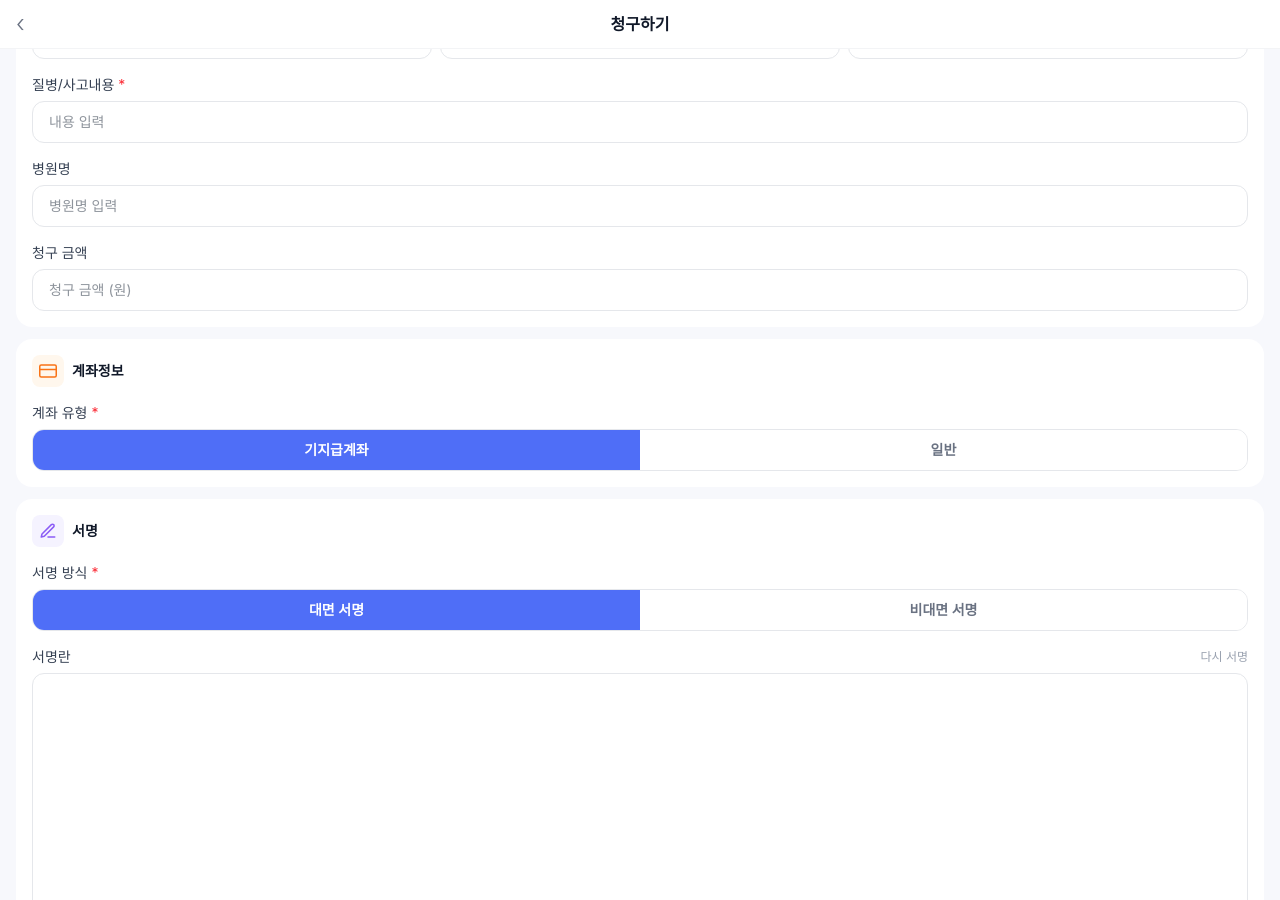
Test case: ClaimNew (청구하기 폼) › 실패 케이스 › 계좌번호 입력 시 숫자가 아닌 문자는 제거된다
The image size is (1280, 900).
(page scrolled)
# 계좌 유형 일반 선택
Step 1. Click the button "일반" → (944, 450), box [640,430,1247,470]
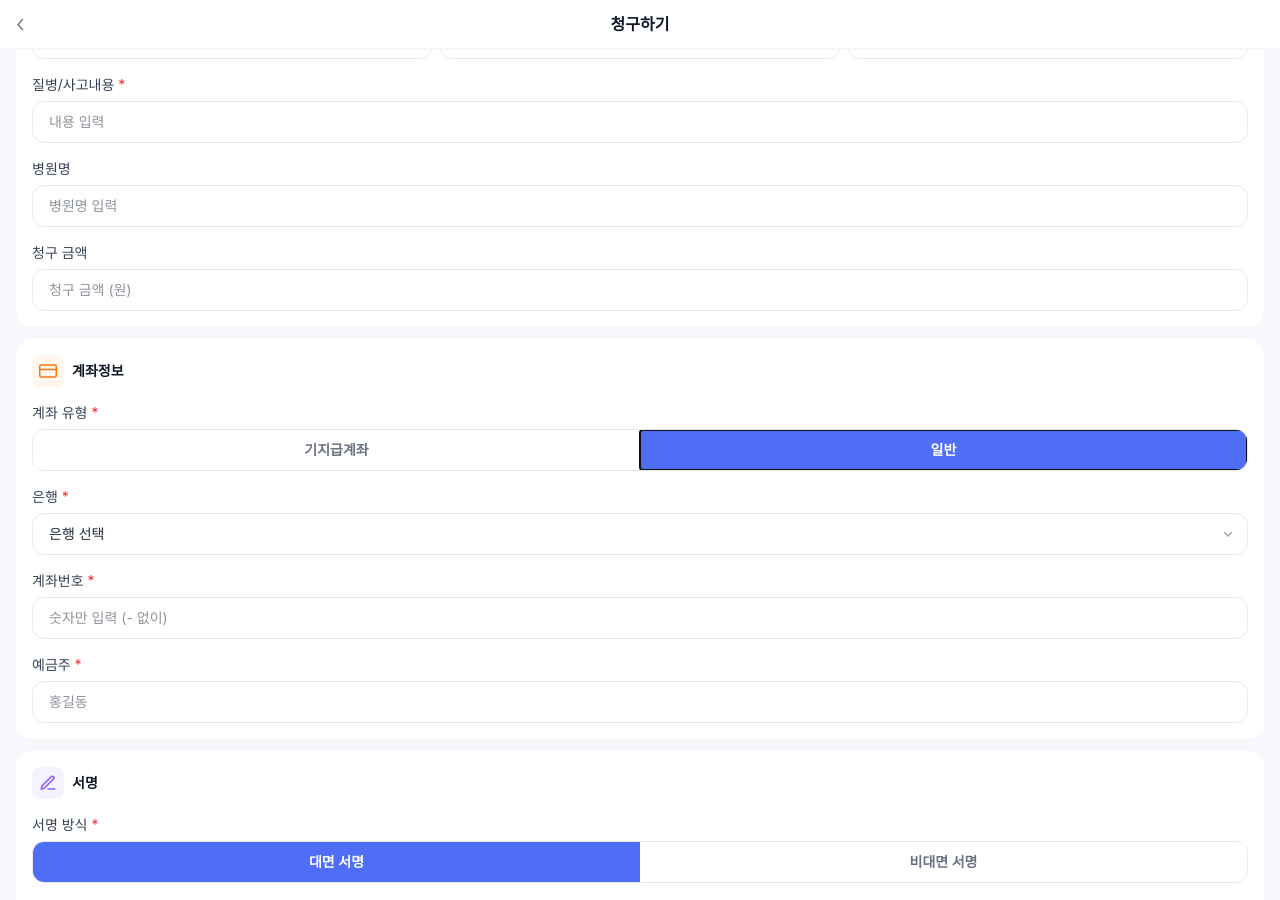
Step 2. Type "123-456abc" into the field with placeholder "숫자만 입력 (- 없이)" → (640, 618), box [32,597,1248,639]
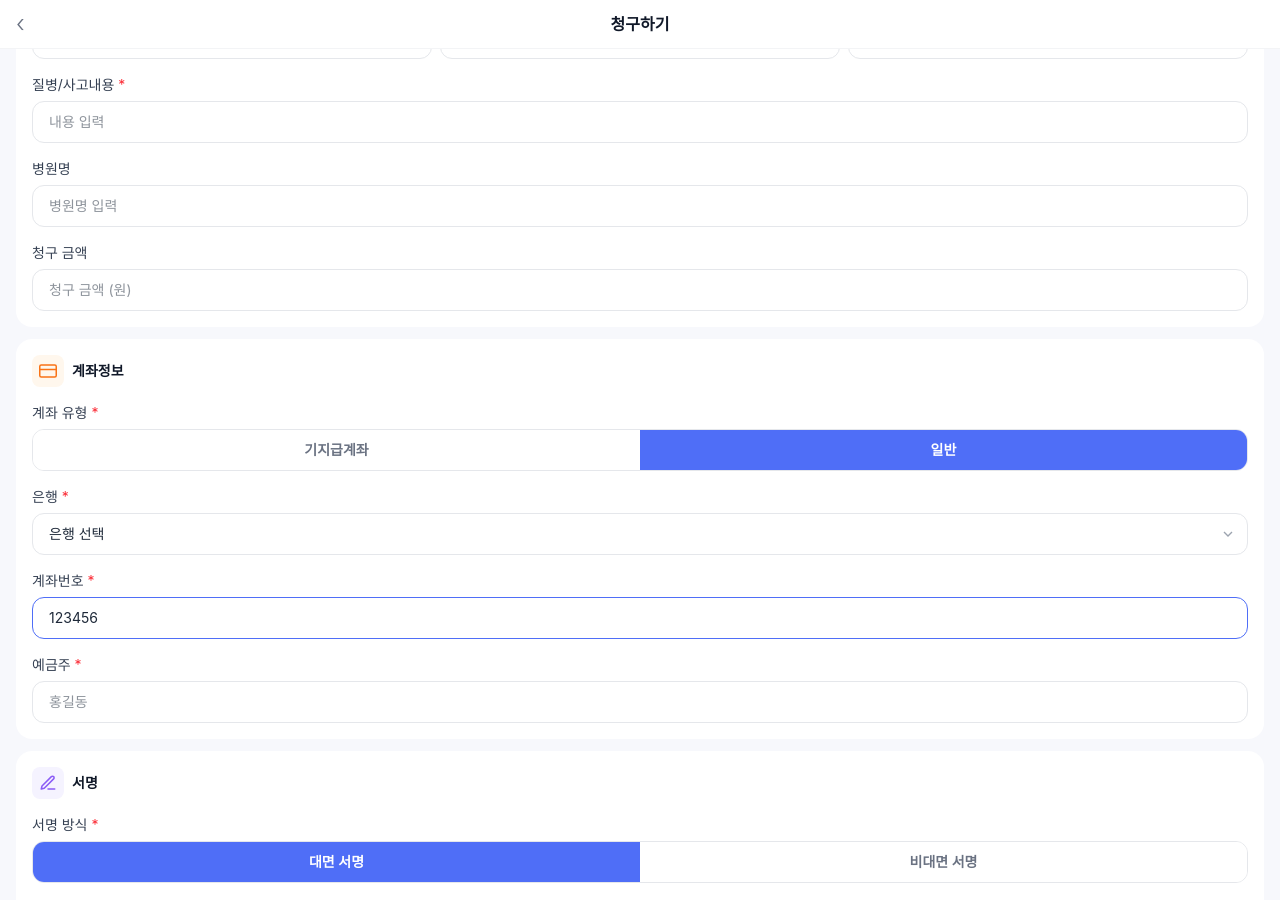
Expected: the field with placeholder "숫자만 입력 (- 없이)" holds "123456", [32,597,1248,639]
